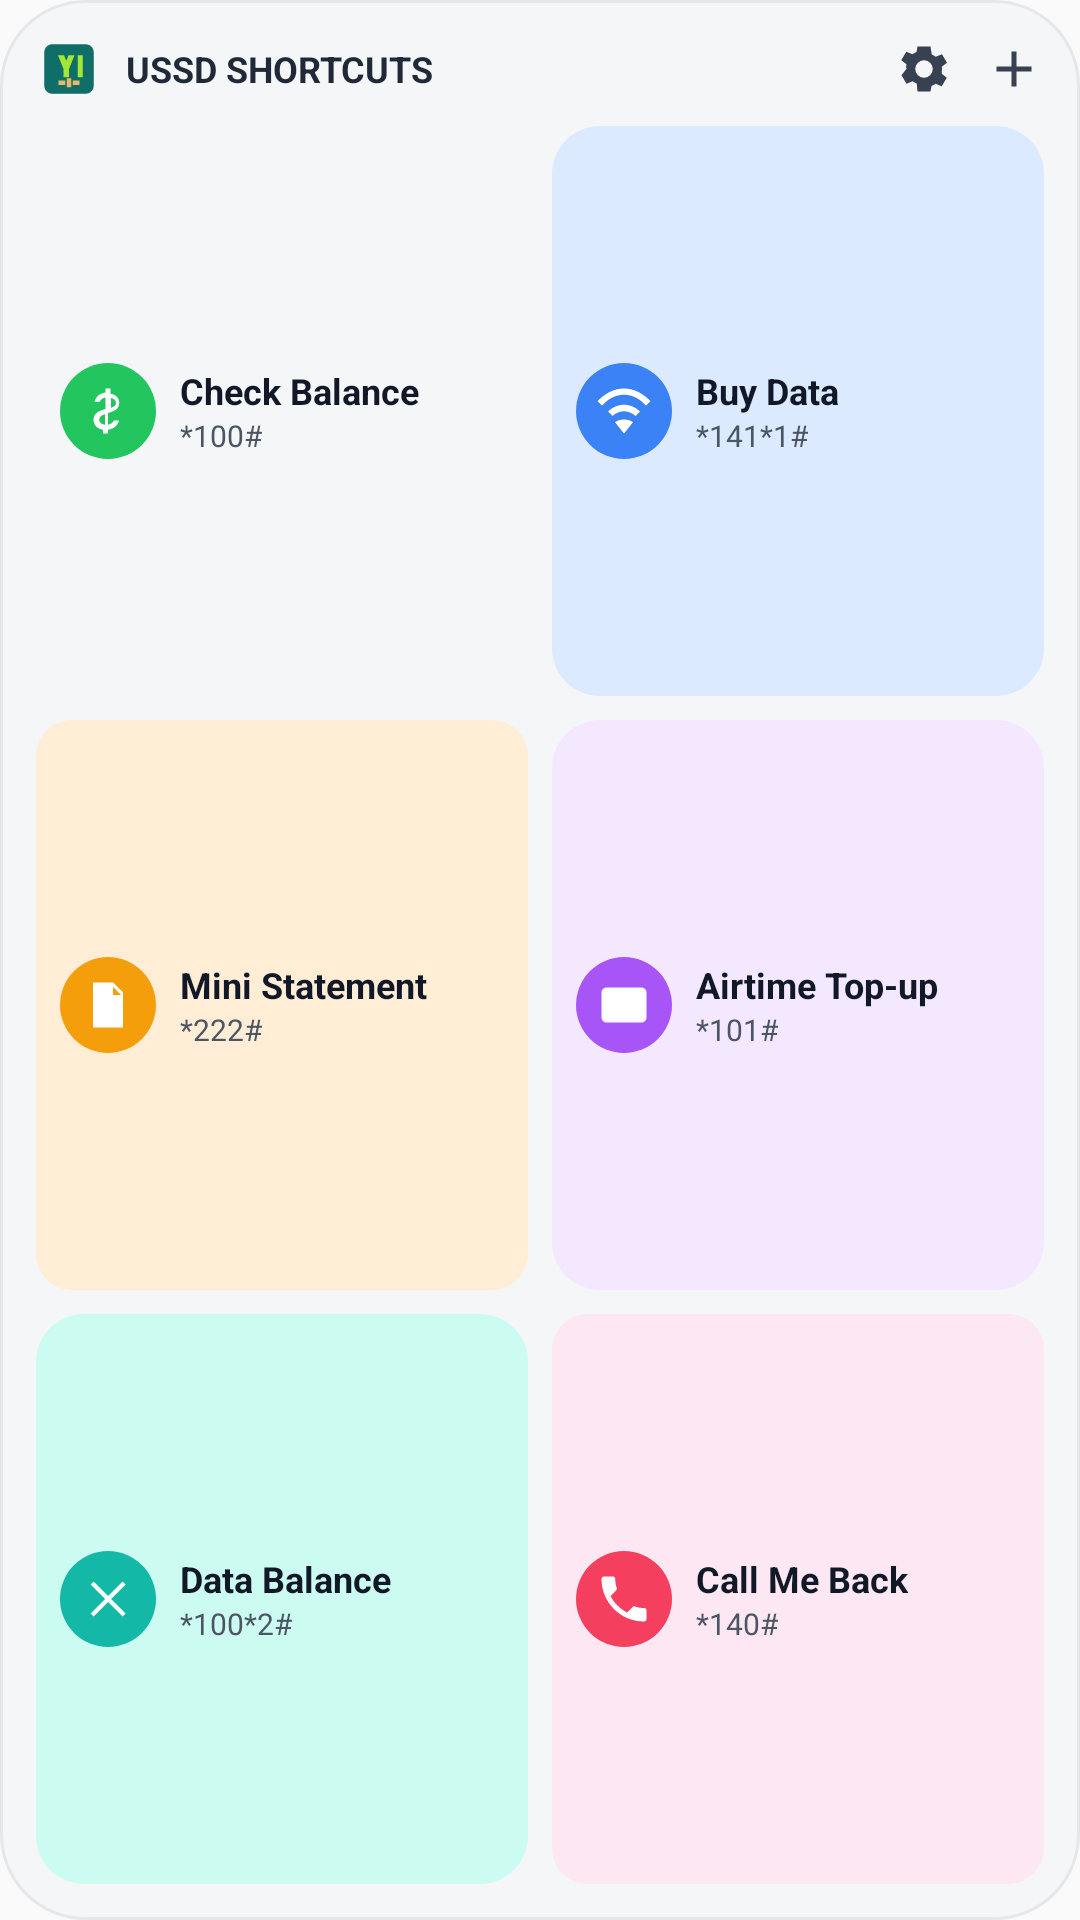

Icons on this 1080px×1920px Android screen, each with the point to tap as (x,y):
widget add: (1014,69)
widget badge balance: (108,411)
widget badge callback: (624,1599)
widget badge data: (624,411)
widget badge statement: (108,1005)
widget settings: (924,69)
